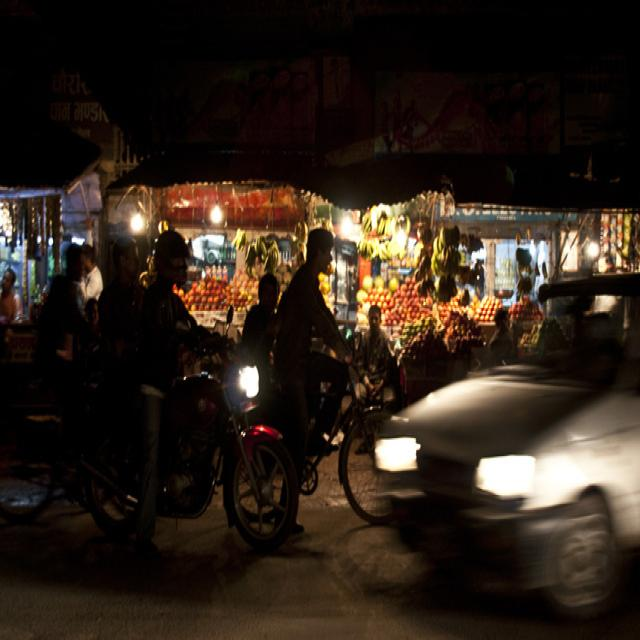Car: (415, 316, 629, 617)
Motorbike: (38, 327, 404, 583)
